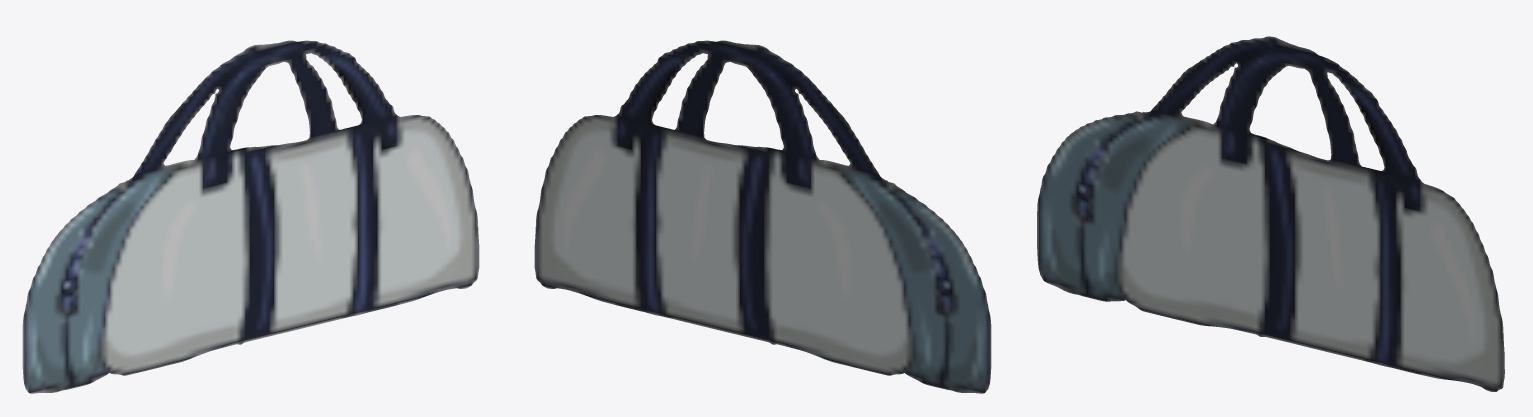
The model's file is giftgoods035.fbx.
3 renders of one model, left to right at view 1: azimuth 30°, elevation 25°; view 2: azimuth 150°, elevation 25°; view 3: azimuth 330°, elevation 25°, orthographic. The views are drawn at different scales.
Visible parts, largest first — view 1: giftgoods035; view 2: giftgoods035; view 3: giftgoods035.
Boxes of the visible parts, x1,y1,x2,y2 form: giftgoods035: [22, 40, 479, 393]; giftgoods035: [534, 40, 991, 393]; giftgoods035: [1037, 36, 1504, 391].
Size of the model in its own units: 0.7652 by 0.4743 by 0.
